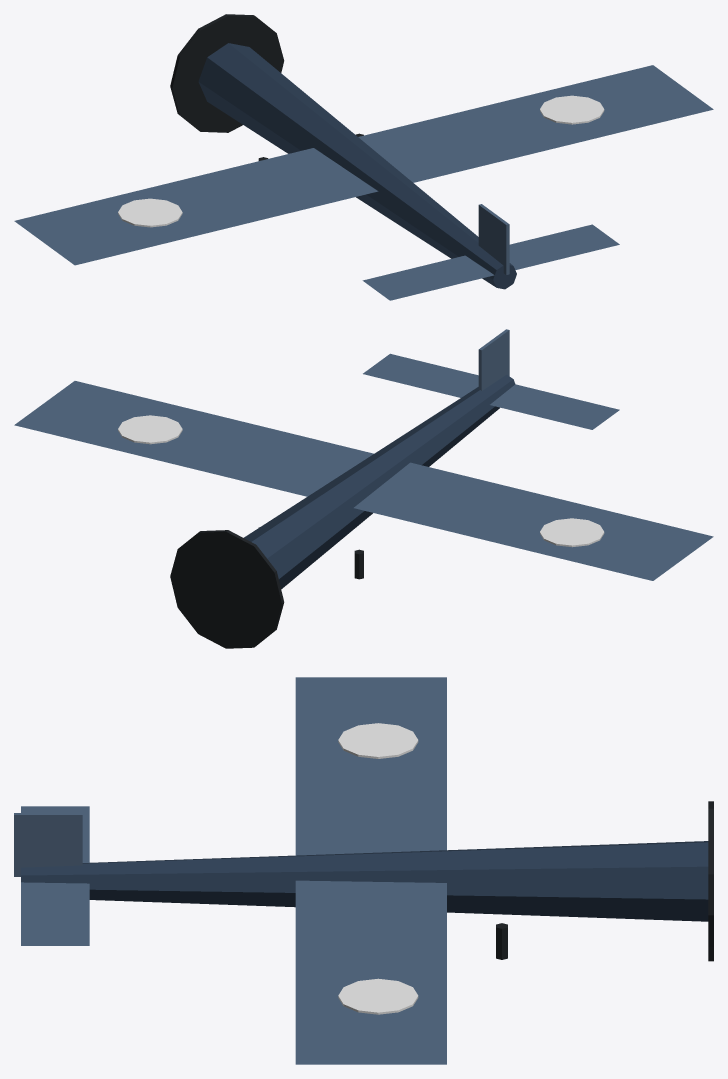
File: plane_us_bomber.glb
3 views of the same model, one above another, from view 1: azimuth 30°, elevation 25°; view 2: azimuth 150°, elevation 25°; view 3: azimuth 270°, elevation 25° (orthographic). The views are drawn at different scales.
Parts seen in each view (by area): view 1: Hull; view 2: Hull; view 3: Hull.
Part boxes in pixels (x1,y1,x2,y2): Hull: (14,14,713,300); Hull: (14,329,713,648); Hull: (14,677,713,1064).
Bounding box in the file's own units: 16 × 2.8 × 12.22.
